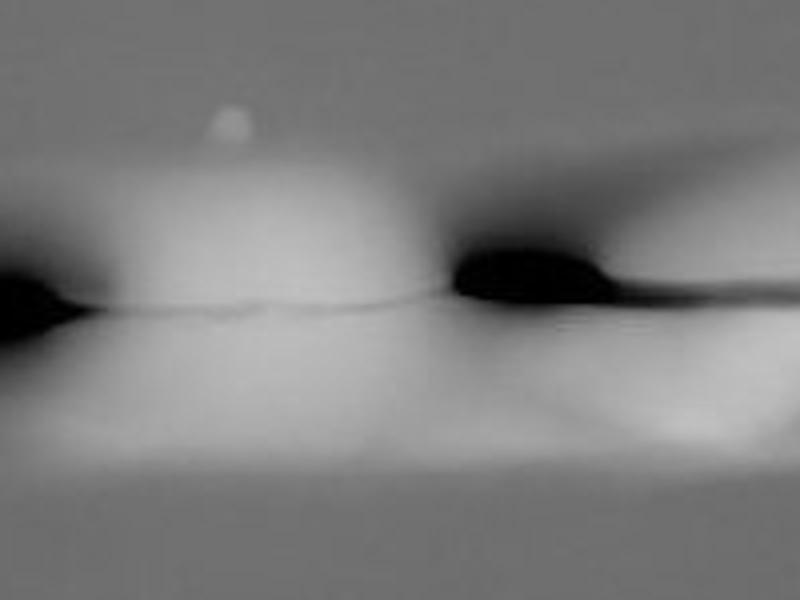defect: (452, 247, 599, 309), (2, 271, 69, 351), (599, 275, 665, 312)
